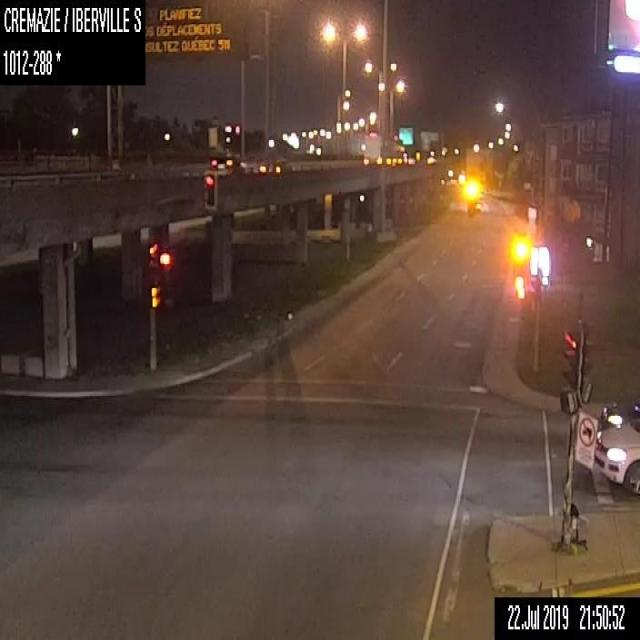vehicle: (594, 415, 639, 495), (600, 393, 639, 430), (363, 135, 404, 167), (209, 148, 246, 176), (258, 151, 291, 172)
